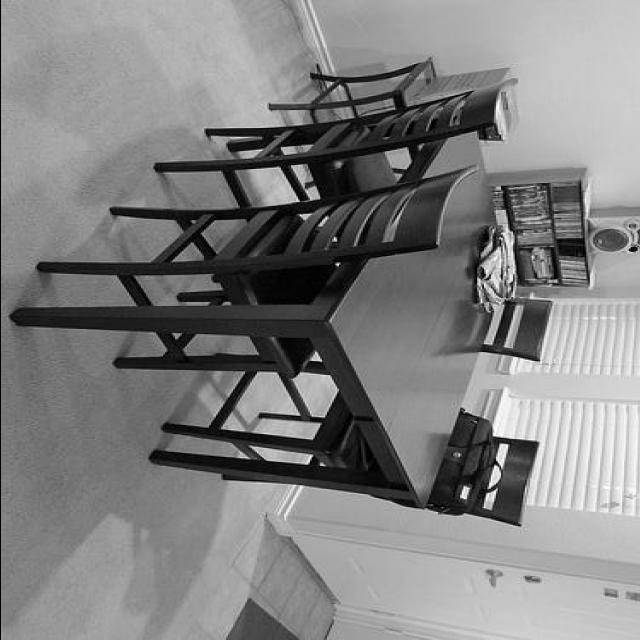chair: (38, 162, 485, 372), (164, 359, 542, 529), (152, 75, 530, 238)
table: (10, 115, 520, 509)
